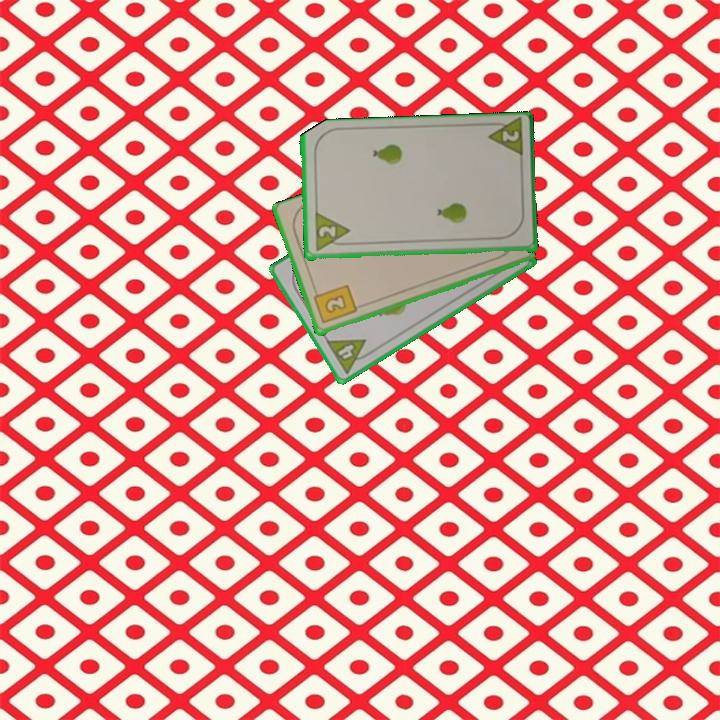2b: (310, 282, 359, 327)
2p: (483, 117, 526, 162), (311, 211, 352, 254)
4p: (323, 335, 376, 377)
